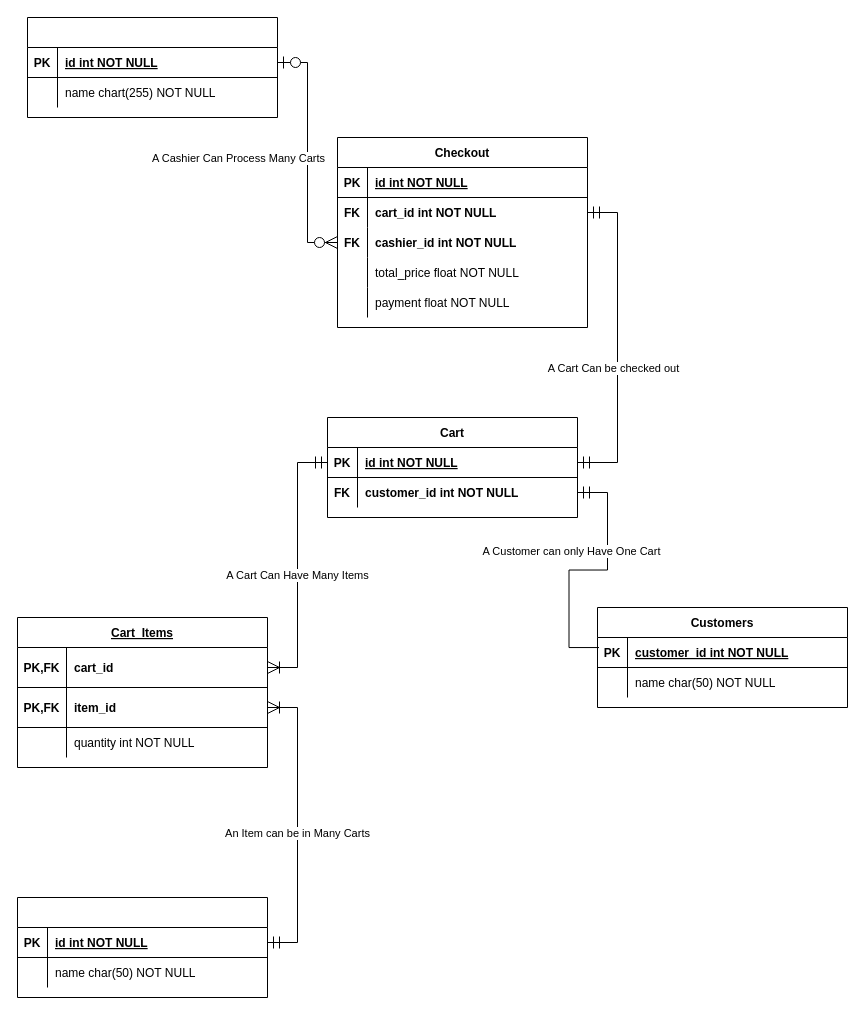
This 865x1015 diagram has some shape labels left out. Each missing label, with the box of its shape:
Cashier: (26, 16, 278, 118)
Items: (16, 896, 268, 998)
